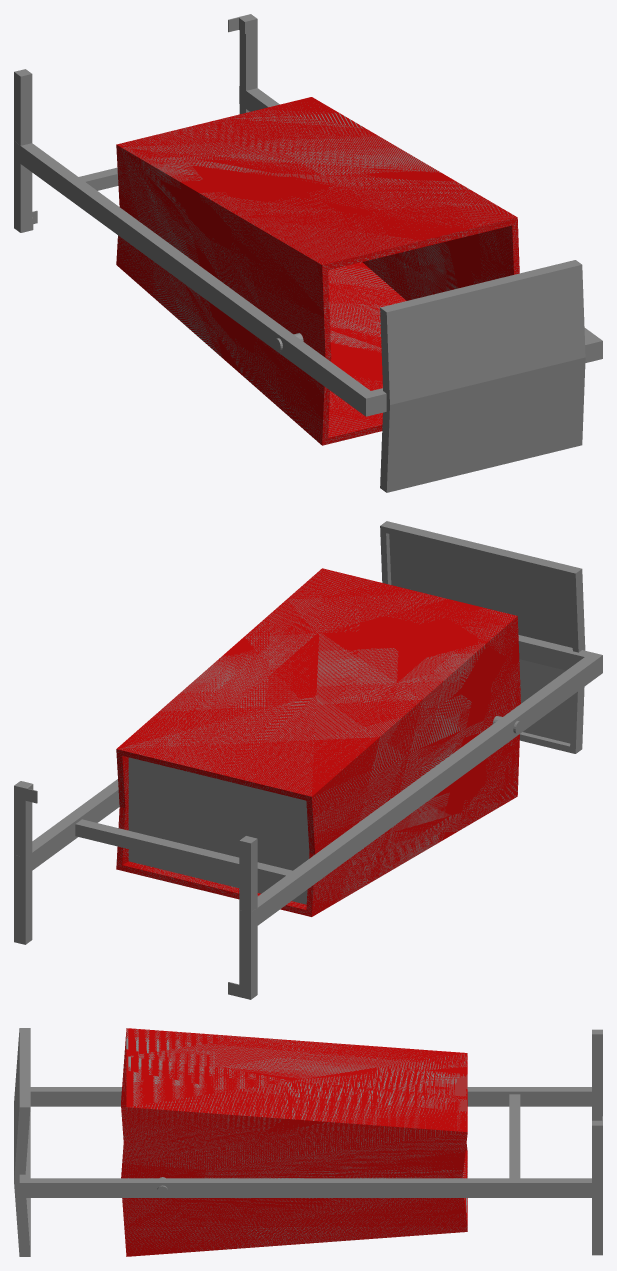
3 renders of one model, top to bottom at view 1: azimuth 30°, elevation 25°; view 2: azimuth 150°, elevation 25°; view 3: azimuth 270°, elevation 25°, orthographic. The views are drawn at different scales.
Parts seen in each view (by area): view 1: trash bin; view 2: trash bin; view 3: trash bin.
Boxes of the visible parts, bbox=[...] form: trash bin: bbox=[14, 14, 602, 492]; trash bin: bbox=[14, 521, 602, 999]; trash bin: bbox=[14, 1028, 602, 1256].
Bounding box in the file's own units: 0.42 × 0.3 × 1.07.
